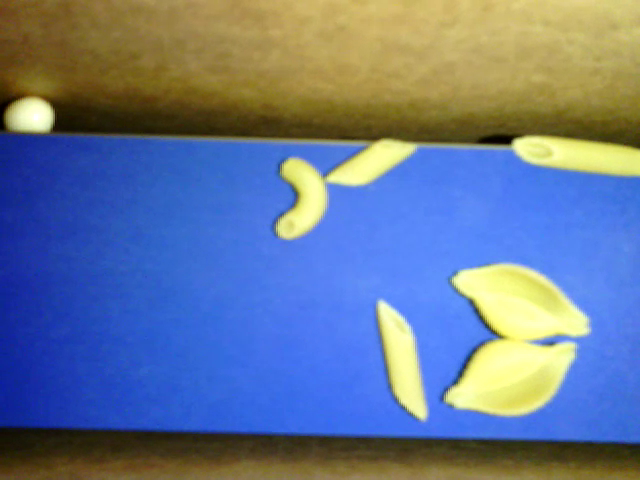elbow: (272, 158, 329, 242)
penne: (377, 298, 429, 421), (511, 132, 639, 176), (325, 136, 416, 188)
shell: (450, 260, 589, 341), (444, 336, 577, 417)
